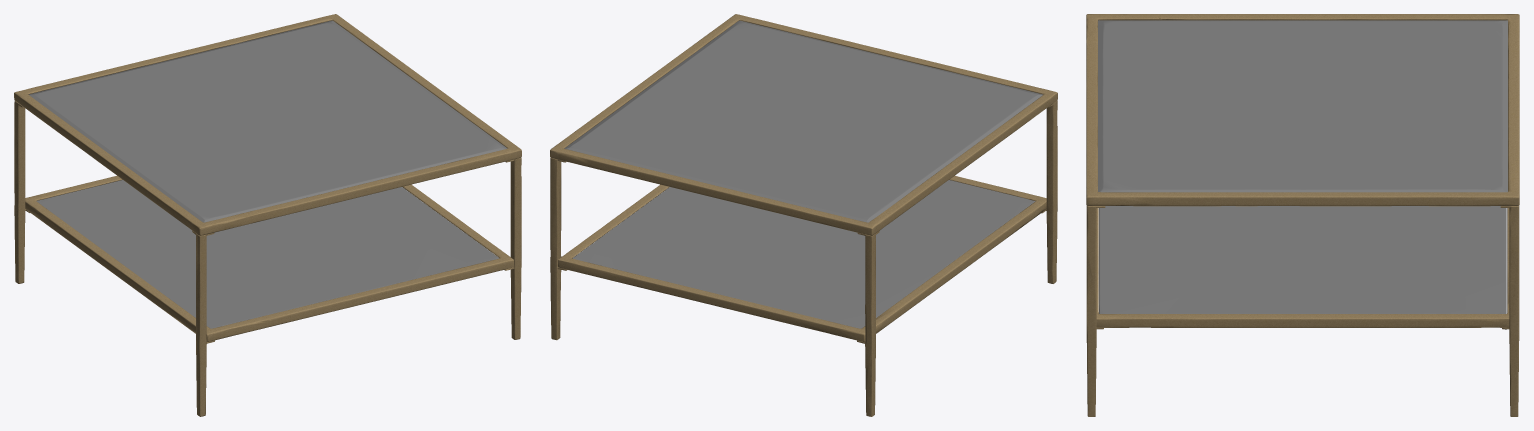
Rendered from RDBL5363_v6_LOD2.obj.
3 views of the same model, side by side, from view 1: azimuth 30°, elevation 25°; view 2: azimuth 150°, elevation 25°; view 3: azimuth 270°, elevation 25° (orthographic). The views are drawn at different scales.
Visible parts, largest first — view 1: clear_obj_0_100_0_v6, not_clear_obj_1_v6; view 2: clear_obj_0_100_0_v6, not_clear_obj_1_v6; view 3: clear_obj_0_100_0_v6, not_clear_obj_1_v6.
Boxes of the visible parts, x1=… form: clear_obj_0_100_0_v6: x1=29, y1=20, x2=507, y2=328; not_clear_obj_1_v6: x1=14, y1=14, x2=521, y2=416; clear_obj_0_100_0_v6: x1=564, y1=20, x2=1042, y2=328; not_clear_obj_1_v6: x1=550, y1=14, x2=1057, y2=416; clear_obj_0_100_0_v6: x1=1097, y1=20, x2=1507, y2=313; not_clear_obj_1_v6: x1=1086, y1=14, x2=1519, y2=416.
Bounding box in the file's own units: 81.3 × 45.67 × 81.25.
Materials: 3 (2 with a texture image).
